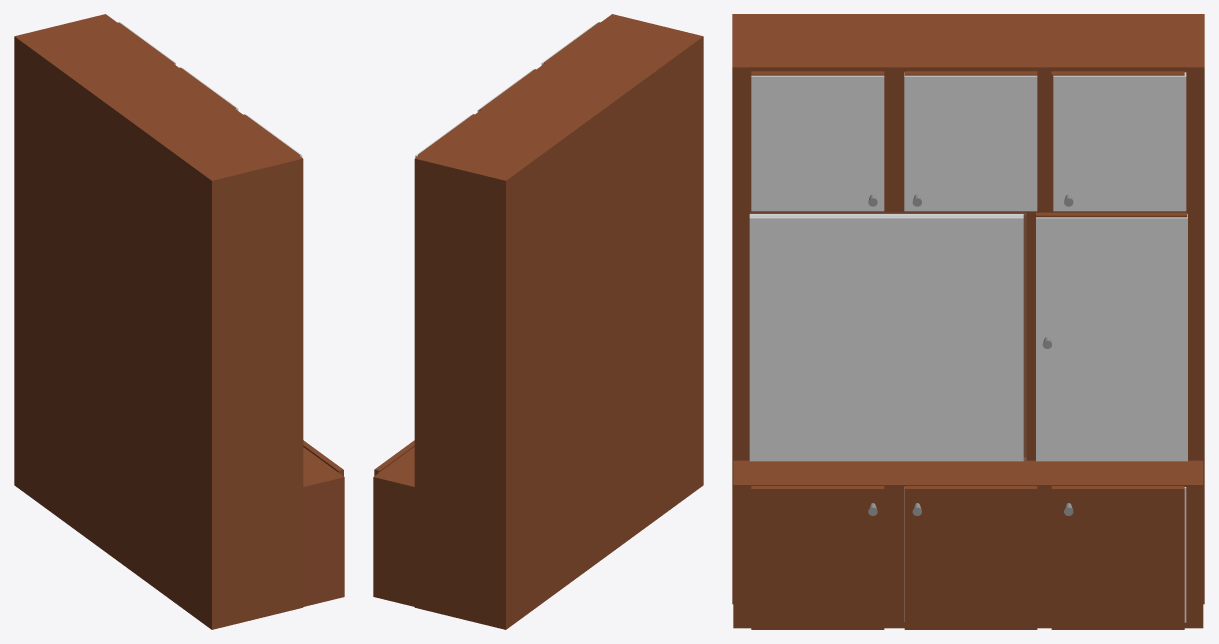
The model's file is шкаф1.fbx.
The picture shows the model from 3 angles, left to right: view 1: azimuth 30°, elevation 25°; view 2: azimuth 150°, elevation 25°; view 3: azimuth 270°, elevation 25°; orthographic projection. The views are drawn at different scales.
Parts seen in each view (by area): view 1: Cube, Куб.008; view 2: Cube, Куб.008; view 3: скрити, Cube, скрити 2, Куб.008, Куб.005, Куб.003, Куб.004, скрити 3, скрити 5, скрити 4, Куб.007, Куб.002 (+3 smaller).
Part boxes in pixels (left/top/right/bottom): Cube: left=14, top=14, right=303, bottom=629; Куб.008: left=303, top=447, right=344, bottom=606; Cube: left=414, top=14, right=703, bottom=629; Куб.008: left=373, top=447, right=414, bottom=606; скрити: left=749, top=214, right=1023, bottom=461; Cube: left=732, top=14, right=1204, bottom=604; скрити 2: left=1036, top=214, right=1187, bottom=461; Куб.008: left=733, top=460, right=1203, bottom=628; Куб.005: left=751, top=486, right=884, bottom=629; Куб.003: left=1051, top=486, right=1184, bottom=629; Куб.004: left=904, top=486, right=1037, bottom=629; скрити 3: left=1053, top=72, right=1186, bottom=211; скрити 5: left=904, top=72, right=1037, bottom=211; скрити 4: left=751, top=75, right=884, bottom=211; Куб.007: left=750, top=213, right=1026, bottom=460; Куб.002: left=1051, top=71, right=1184, bottom=212.
Size of the model in its own units: 595 by 1694 by 1350.
